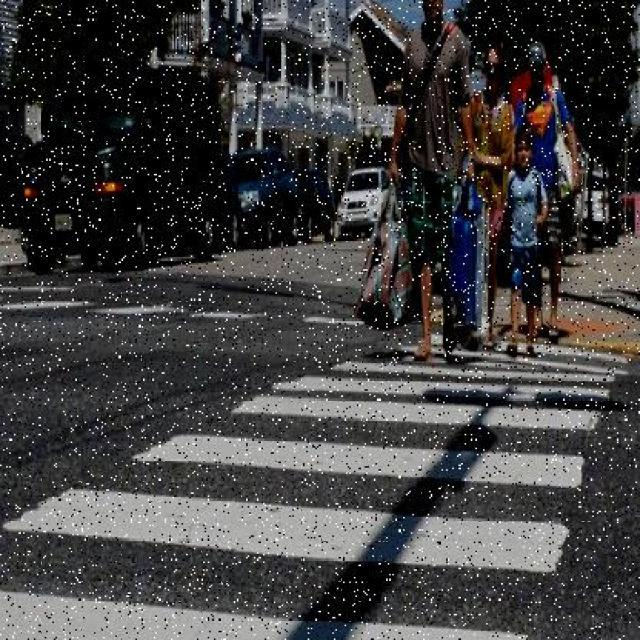crosswalk: (11, 336, 631, 639)
